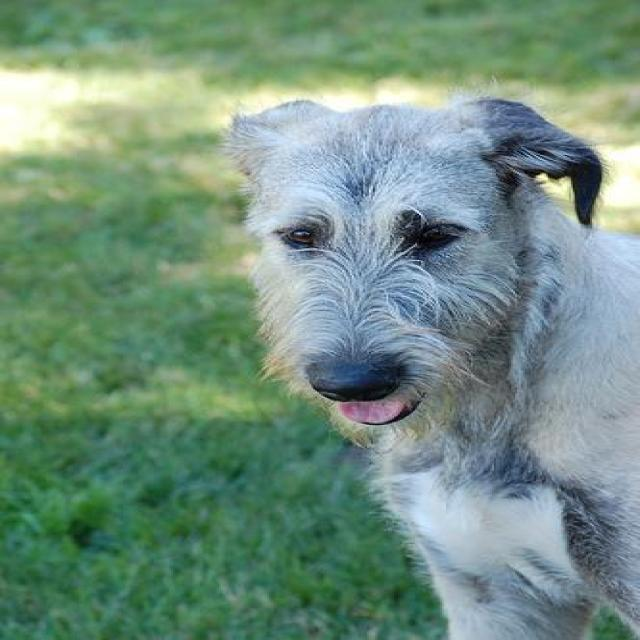irish_wolfhound: (225, 92, 636, 638)
